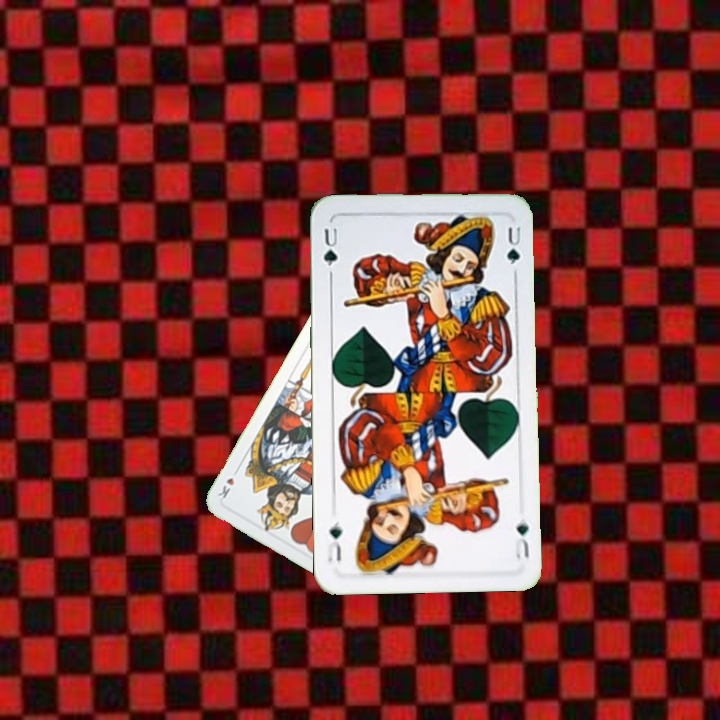GU: (319, 223, 341, 269), (511, 518, 532, 561)
